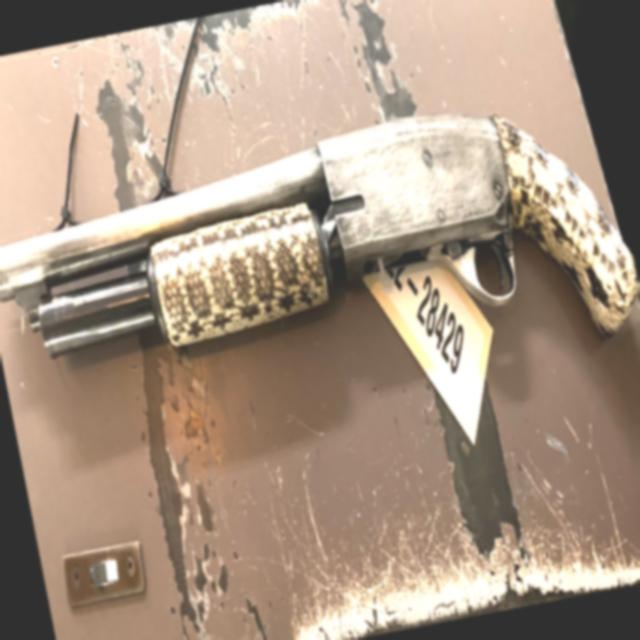shotgun: (0, 80, 640, 451)
